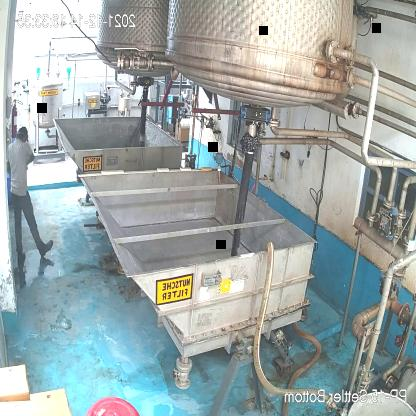shoes: (35, 237, 55, 260), (14, 248, 29, 270)
